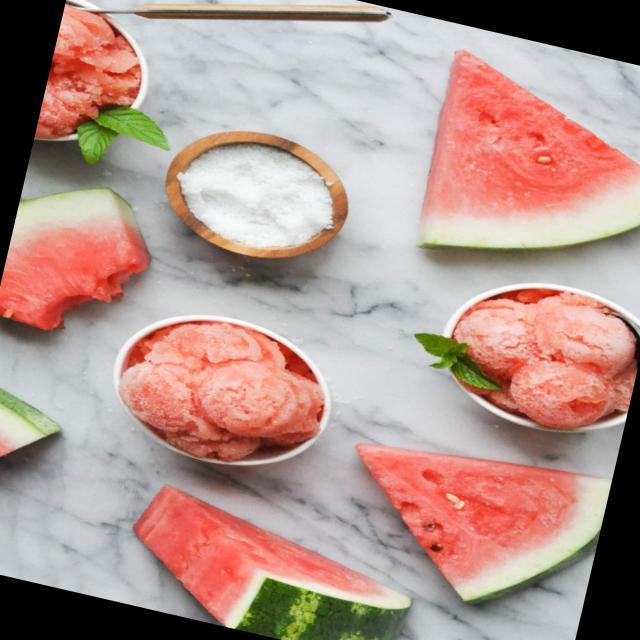WATERMELON: (410, 46, 640, 301), (333, 430, 610, 620), (118, 488, 441, 640), (443, 281, 640, 440), (132, 318, 311, 470), (0, 172, 156, 342), (35, 0, 153, 156), (0, 372, 72, 502), (243, 498, 247, 507)
